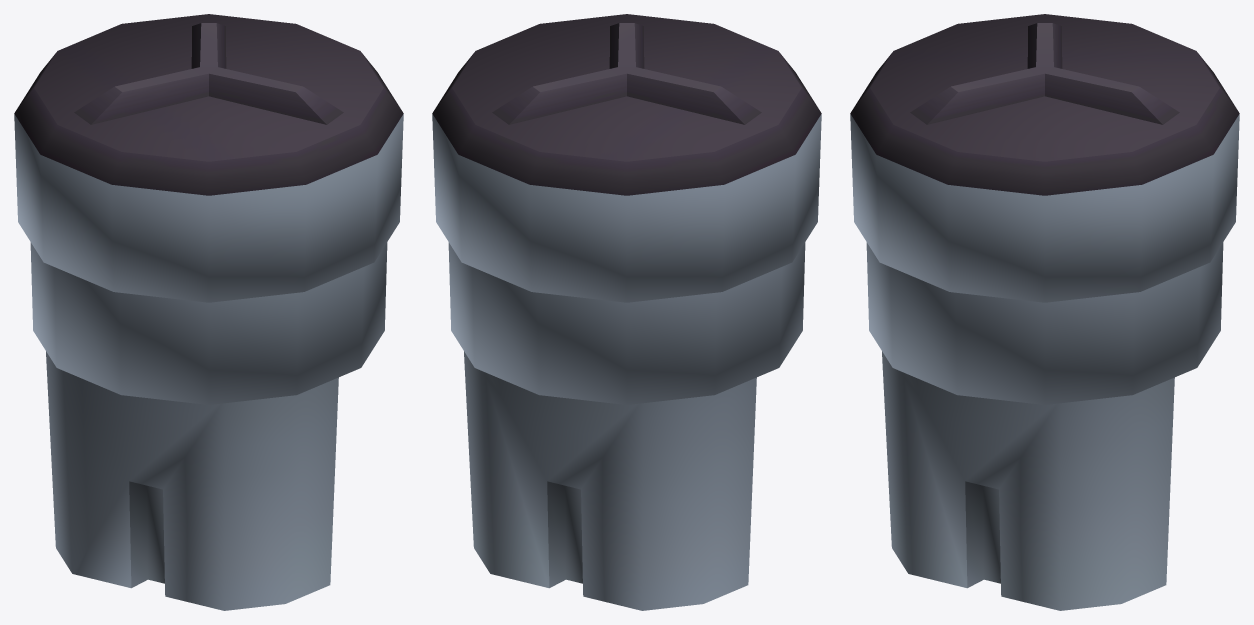
Rendered from Impact_Barrel_1A.fbx.
3 views of the same model, side by side, from view 1: azimuth 30°, elevation 25°; view 2: azimuth 150°, elevation 25°; view 3: azimuth 270°, elevation 25° (orthographic).
Parts seen in each view (by area): view 1: Impact_Barrel_1A; view 2: Impact_Barrel_1A; view 3: Impact_Barrel_1A.
Part boxes in pixels (bbox=[...]): Impact_Barrel_1A: bbox=[14, 14, 403, 610]; Impact_Barrel_1A: bbox=[432, 14, 821, 610]; Impact_Barrel_1A: bbox=[850, 14, 1239, 610].
Bounding box in the file's own units: 38.96 × 53.04 × 38.96.
